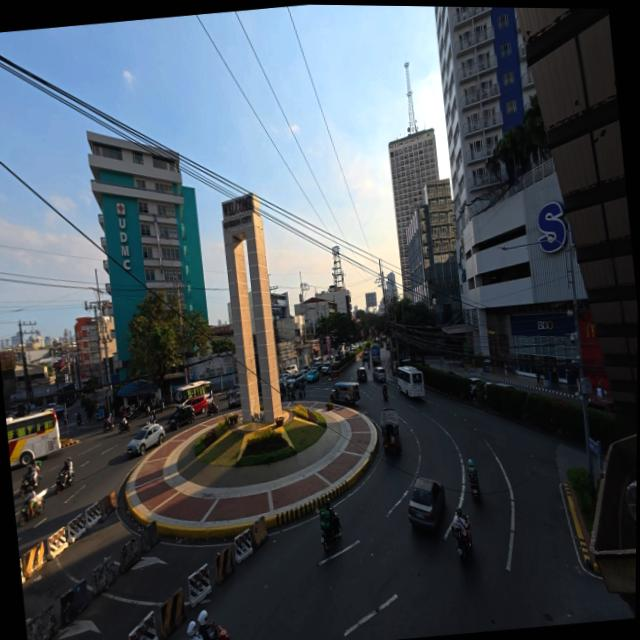Jeepneys: (380, 408, 401, 453), (331, 381, 360, 404)
bus: (6, 410, 61, 465), (173, 381, 213, 408), (397, 366, 425, 396), (369, 343, 382, 368)
car: (408, 478, 445, 530), (128, 424, 165, 455), (168, 405, 195, 430), (187, 396, 207, 414), (469, 377, 484, 397), (286, 373, 304, 389), (485, 382, 516, 391), (373, 367, 386, 382), (228, 392, 240, 408), (306, 369, 319, 383), (279, 373, 288, 392), (227, 385, 239, 398), (285, 364, 298, 375), (357, 367, 367, 381), (312, 359, 322, 371), (321, 362, 330, 374), (299, 366, 310, 375), (279, 373, 288, 382), (362, 349, 369, 358), (385, 342, 389, 349)
motorcycle: (19, 490, 46, 526), (322, 512, 341, 552), (452, 526, 470, 562), (19, 472, 40, 495), (55, 470, 74, 494), (209, 621, 230, 639), (469, 475, 480, 499), (116, 417, 130, 433), (152, 399, 165, 411), (207, 402, 218, 416), (124, 408, 134, 422), (288, 385, 296, 401), (103, 420, 113, 432), (299, 385, 306, 399), (148, 412, 156, 424), (75, 415, 82, 427), (383, 392, 388, 401)
